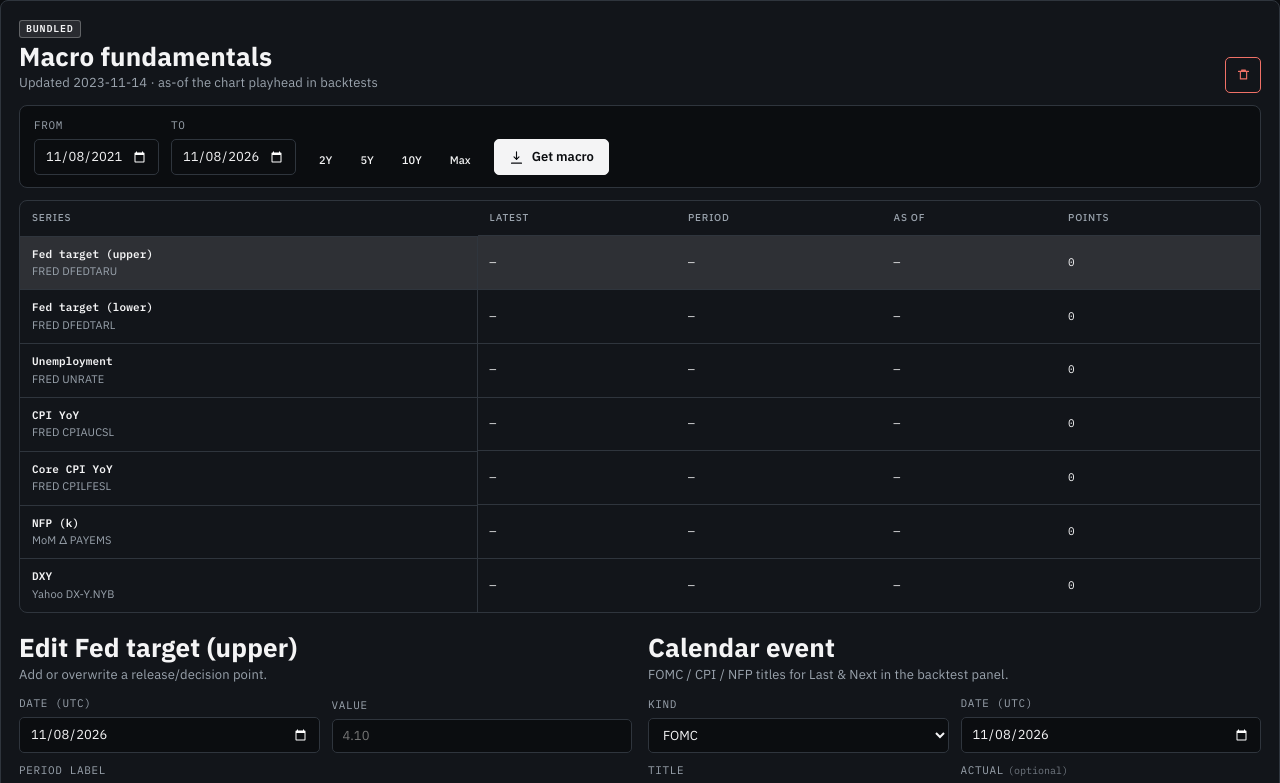
Scenario: Empirical Challenger M4: Panels, Desks, Buttons & Forms Stress Suite › FundamentalsDesk: Form Submissions, Clearing & Boundary Validation › submits fundamental point edits, handles negative values and clears input upon save
Type "-0.75" into the number field with placeholder "4.10" at point(482, 736), box [332,719,632,753]
(page scrolled)
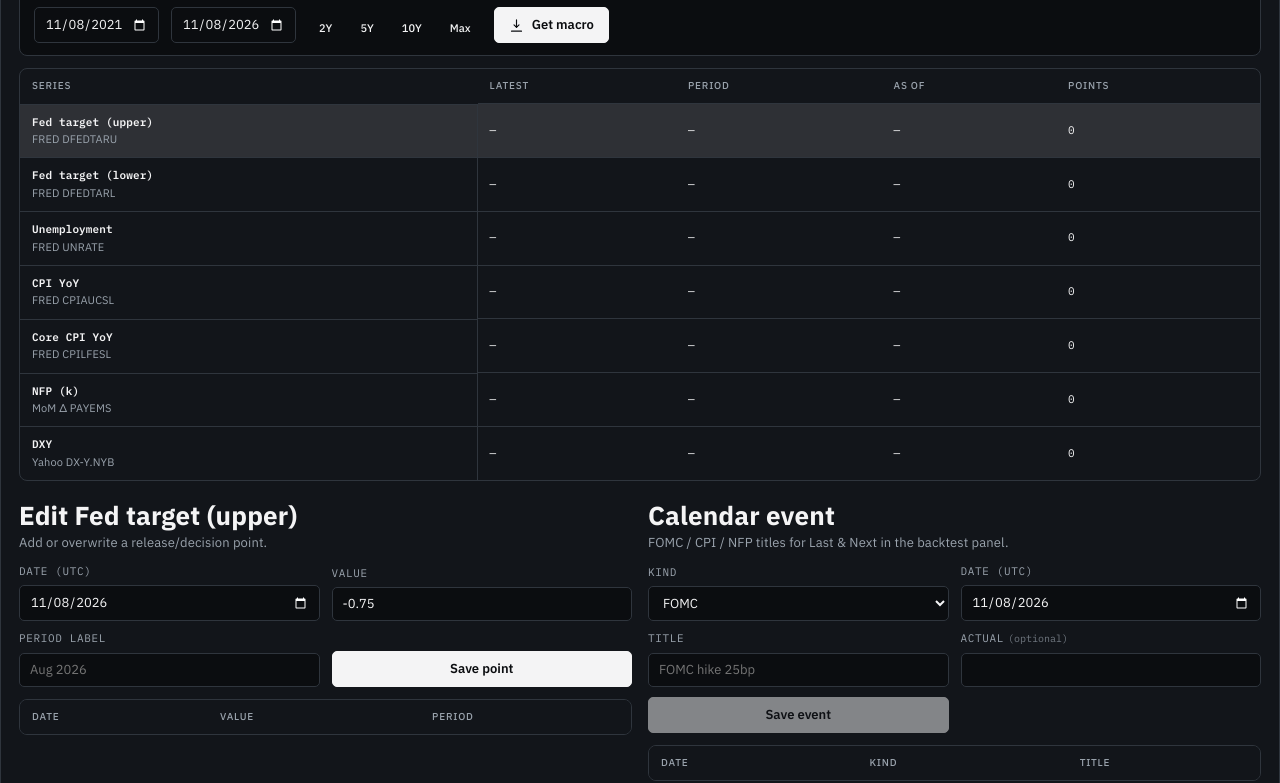
Type "Q1 2026" into the field with placeholder "Aug 2026" at point(169, 670), box [19,653,320,687]
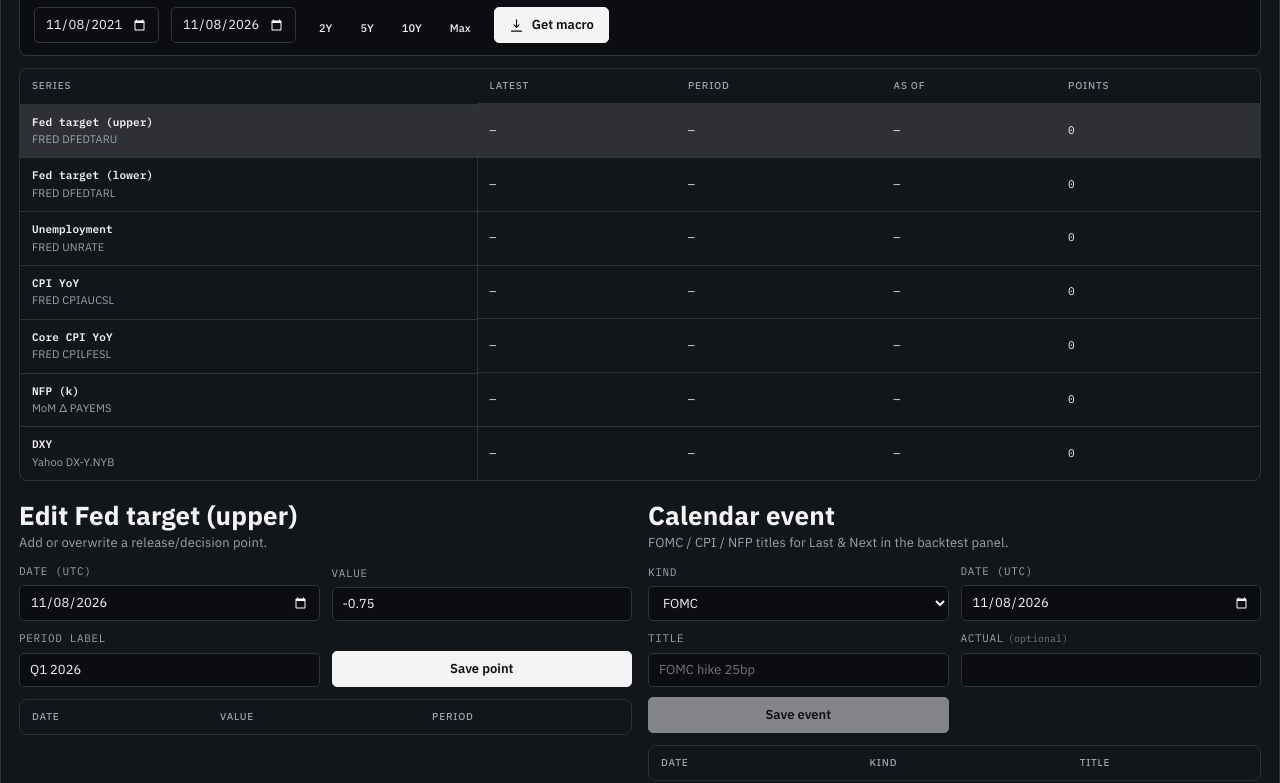
Expected: the button "Save point" is enabled
Click the button "Save point" at point(482, 669), box [332,651,632,687]
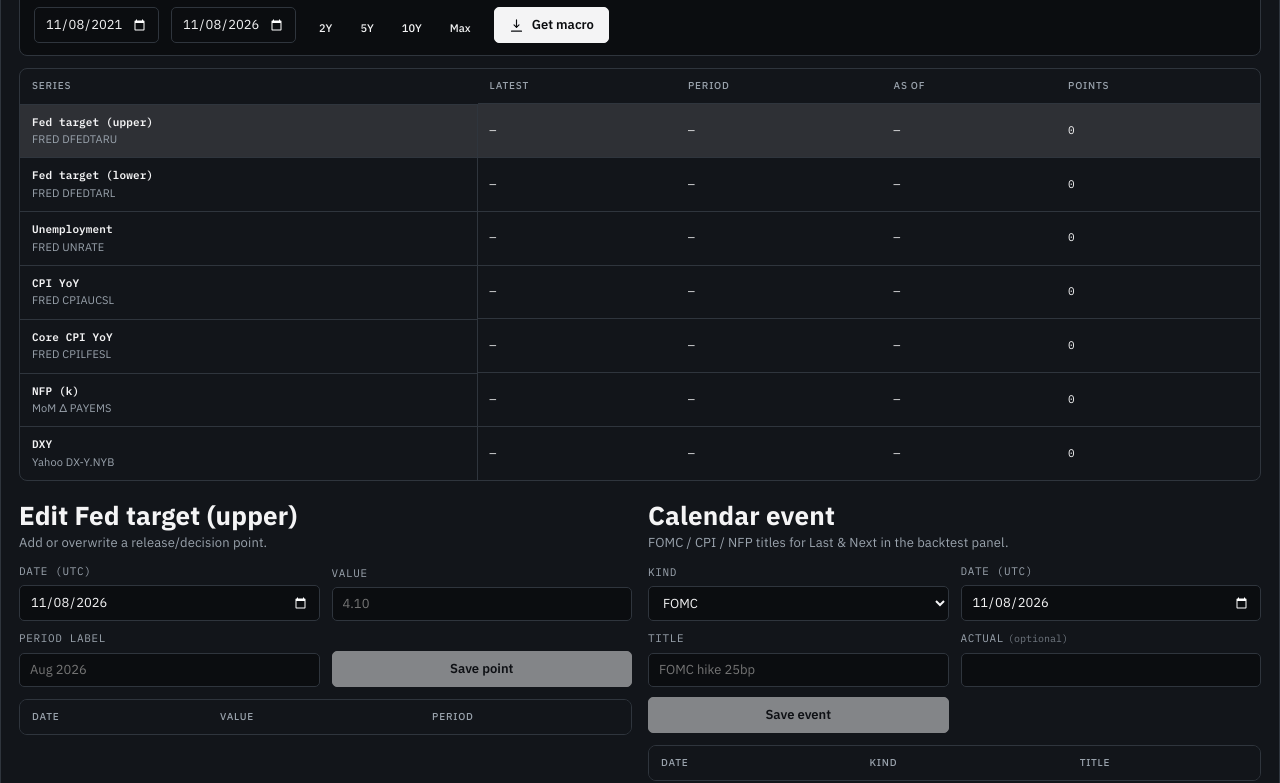
Expected: the number field with placeholder "4.10" is empty, [332,587,632,621]
Expected: the field with placeholder "Aug 2026" is empty, [19,653,320,687]
Expected: the button "Save point" is disabled, [332,651,632,687]
